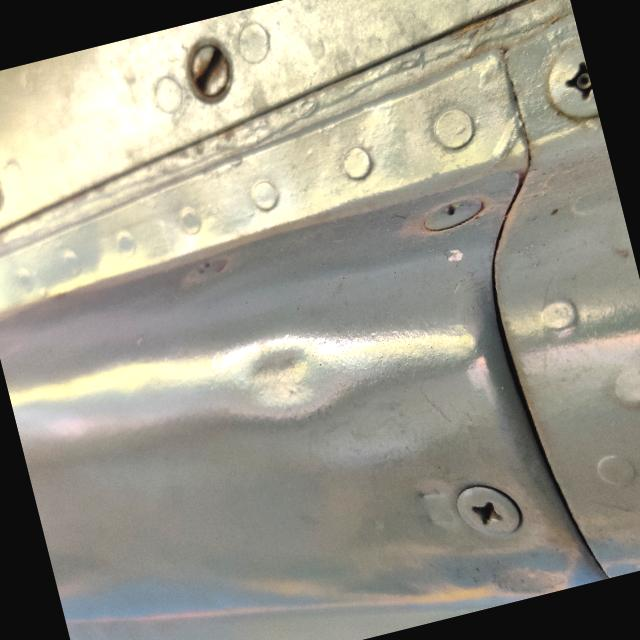dent: (205, 310, 368, 456)
